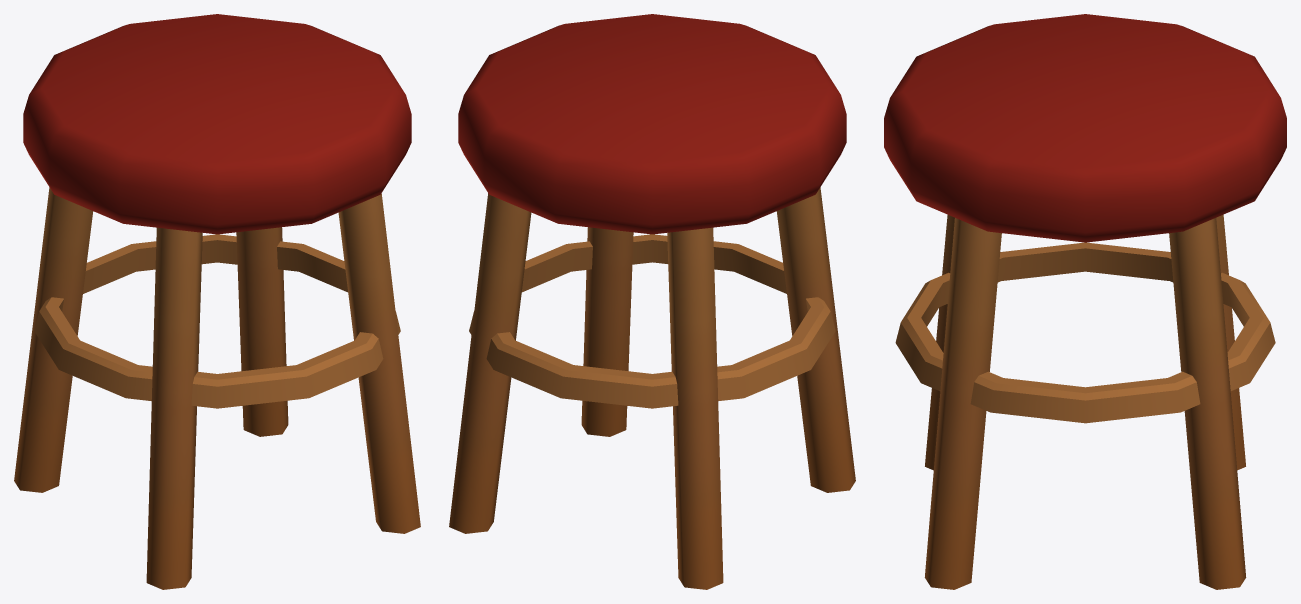
The model's file is Chair_1_F.fbx.
3 views of the same model, side by side, from view 1: azimuth 30°, elevation 25°; view 2: azimuth 150°, elevation 25°; view 3: azimuth 270°, elevation 25° (orthographic). The views are drawn at different scales.
Visible parts, largest first — view 1: Chair_1_F; view 2: Chair_1_F; view 3: Chair_1_F.
Part boxes in pixels (left/top/right/bottom): Chair_1_F: left=14, top=14, right=420, bottom=589; Chair_1_F: left=449, top=14, right=855, bottom=589; Chair_1_F: left=884, top=14, right=1286, bottom=589.
Size of the model in its own units: 50.02 by 59.1 by 50.04.
